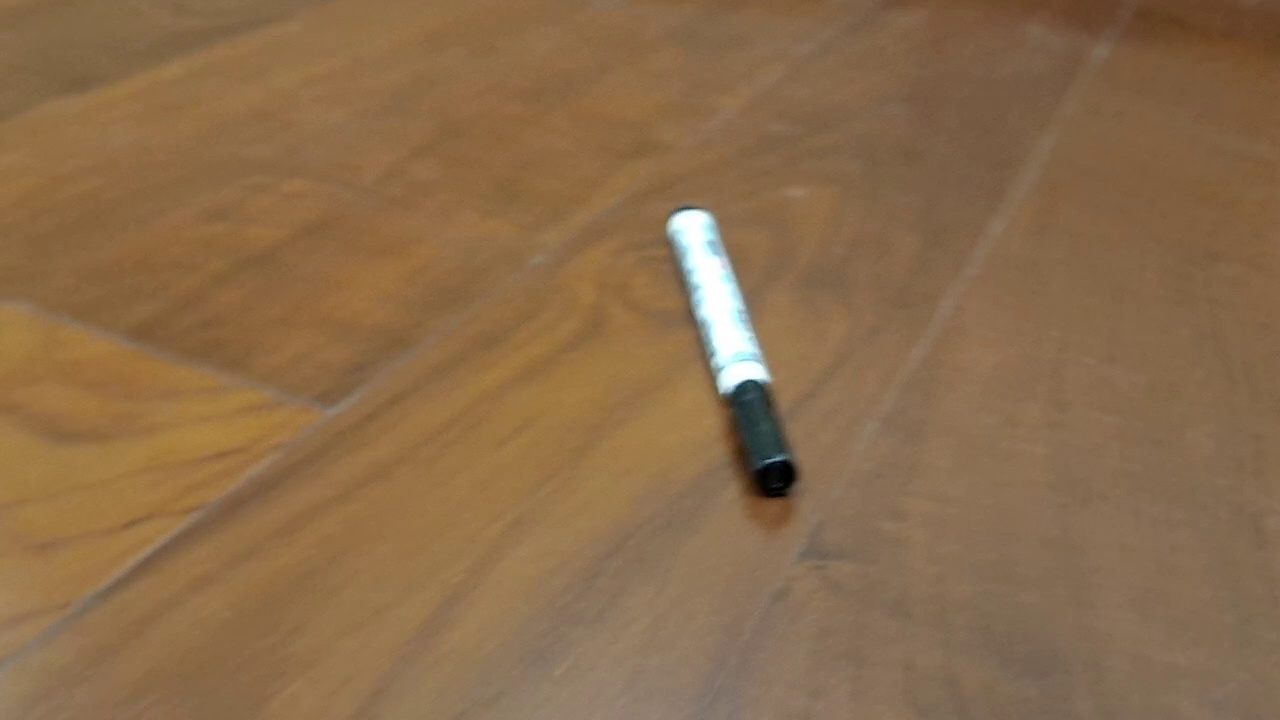pen: (664, 205, 800, 499)
